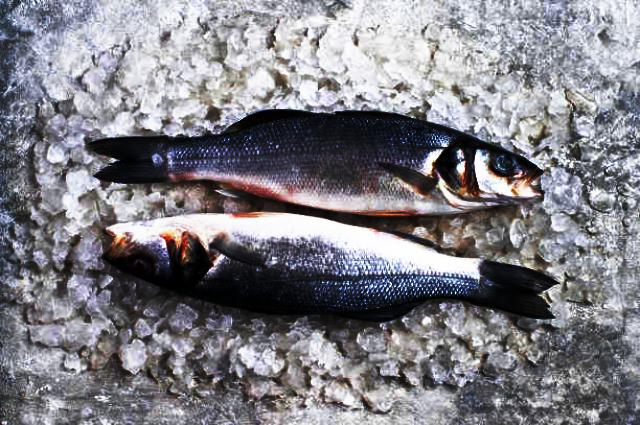Healthy Fish: (100, 211, 561, 324), (86, 111, 545, 221)
